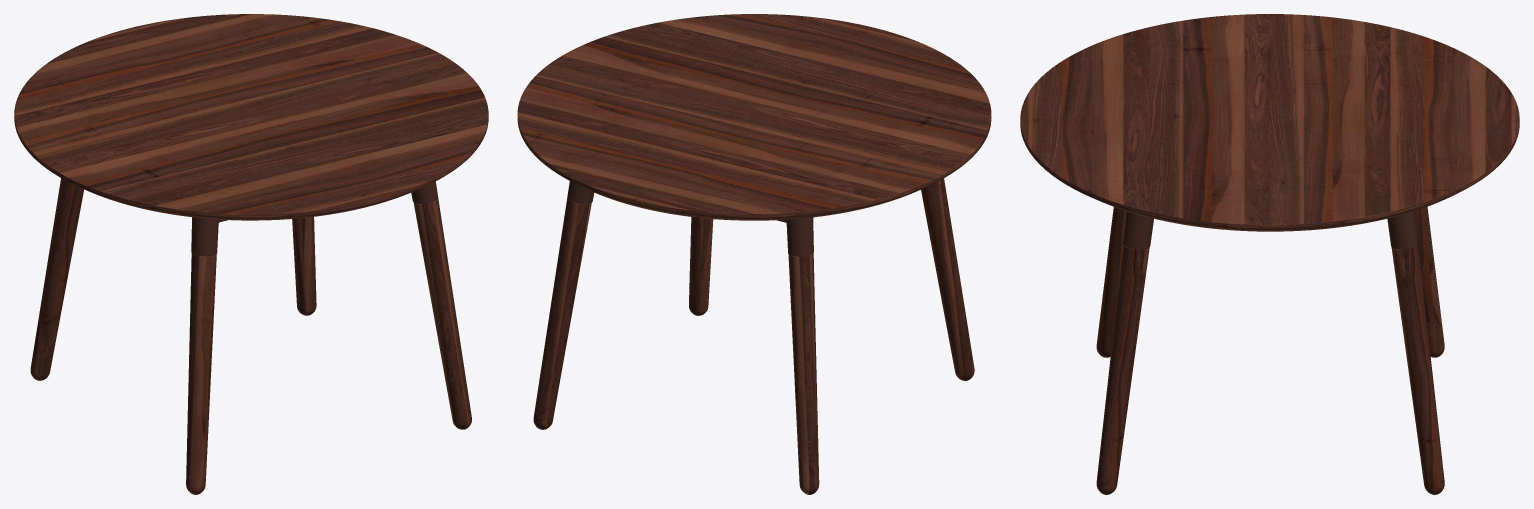
Rendered from Edelweiss Round Table.fbx.
3 renders of one model, left to right at view 1: azimuth 30°, elevation 25°; view 2: azimuth 150°, elevation 25°; view 3: azimuth 270°, elevation 25°, orthographic. The views are drawn at different scales.
Parts seen in each view (by area): view 1: Edelweiss_Round_Dining_Table_Walnut_and_Black; view 2: Edelweiss_Round_Dining_Table_Walnut_and_Black; view 3: Edelweiss_Round_Dining_Table_Walnut_and_Black.
Boxes of the visible parts, left/top/right/bottom form: Edelweiss_Round_Dining_Table_Walnut_and_Black: left=14, top=14, right=488, bottom=494; Edelweiss_Round_Dining_Table_Walnut_and_Black: left=517, top=14, right=991, bottom=494; Edelweiss_Round_Dining_Table_Walnut_and_Black: left=1020, top=14, right=1519, bottom=494.
Size of the model in its own units: 43.31 by 29.28 by 43.31.
